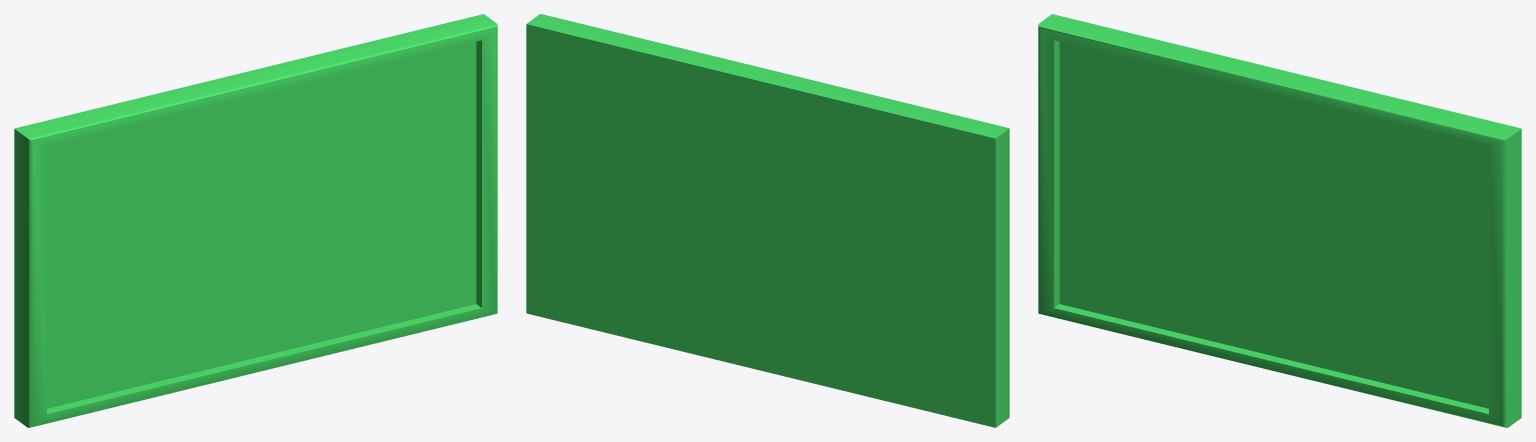
File: screen.fbx
3 views of the same model, side by side, from view 1: azimuth 30°, elevation 25°; view 2: azimuth 150°, elevation 25°; view 3: azimuth 330°, elevation 25° (orthographic).
Parts seen in each view (by area): view 1: Cube.001; view 2: Cube.001; view 3: Cube.001.
Part boxes in pixels (x1,y1,x2,y2): Cube.001: (14,14,497,427); Cube.001: (526,14,1009,427); Cube.001: (1038,14,1521,427).
Bounding box in the file's own units: 143 × 84.27 × 8.15.
